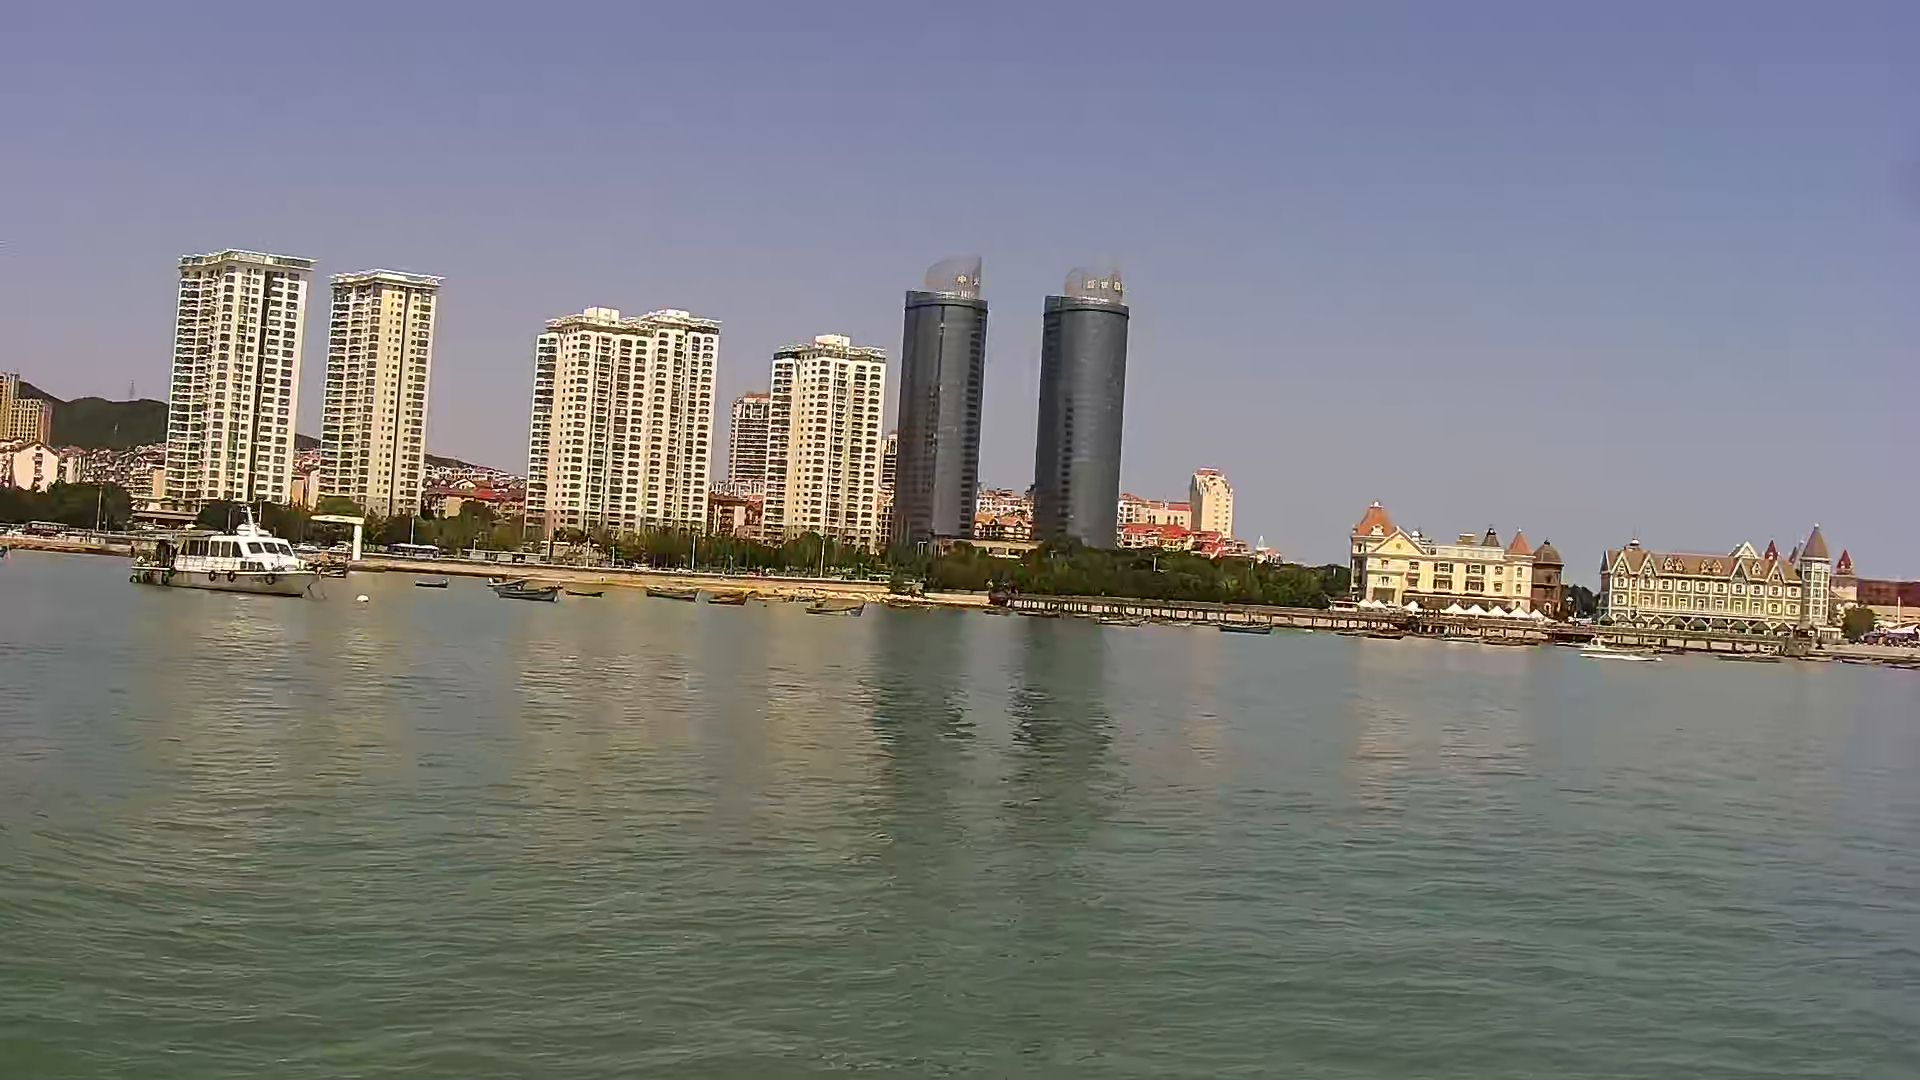boat: (488, 575, 566, 600)
ship: (125, 498, 326, 604)
